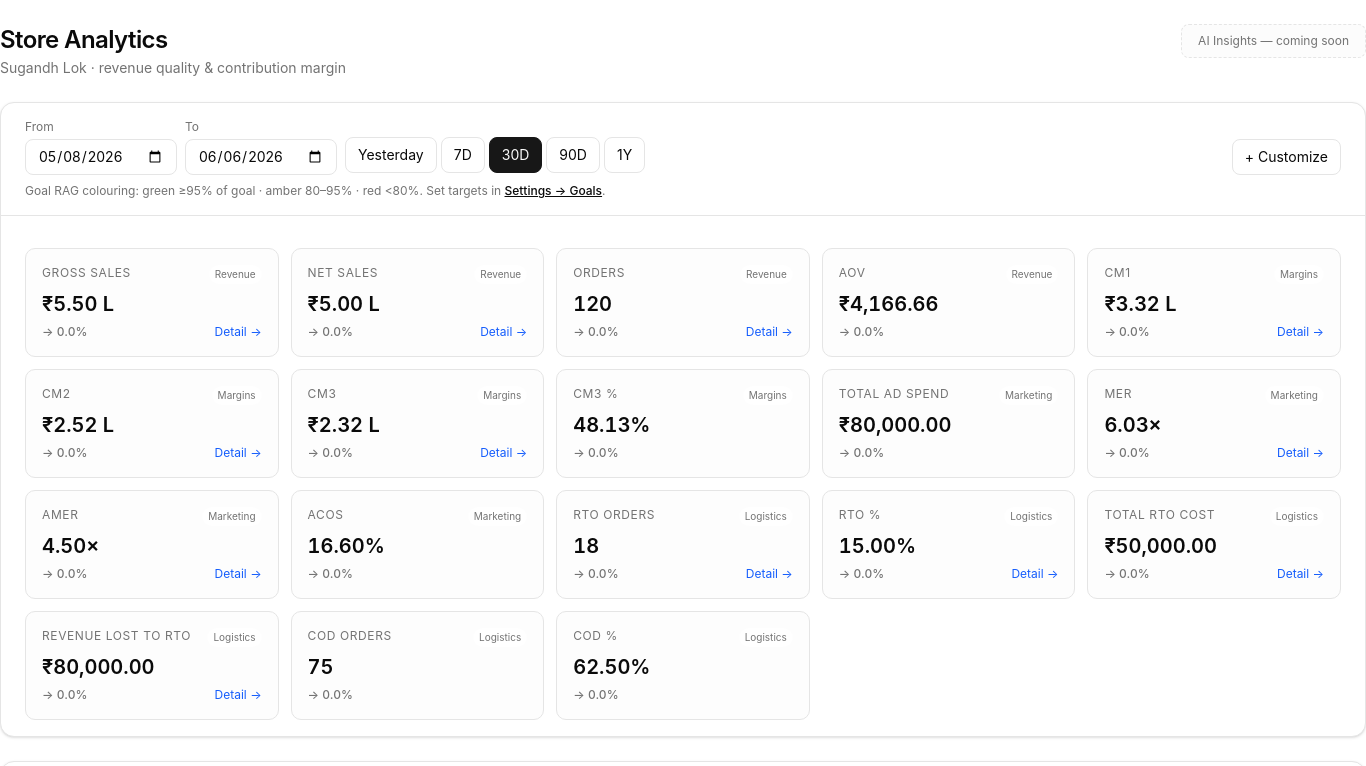
Test: AnalyticsContent — customize panel › clicking customize button toggles aria-expanded
What coordinates should you click on to do the following:
click the button with test id "analytics-customize-btn"
I would click on:
 (1286, 157)
Its box is [1232,139,1341,175].
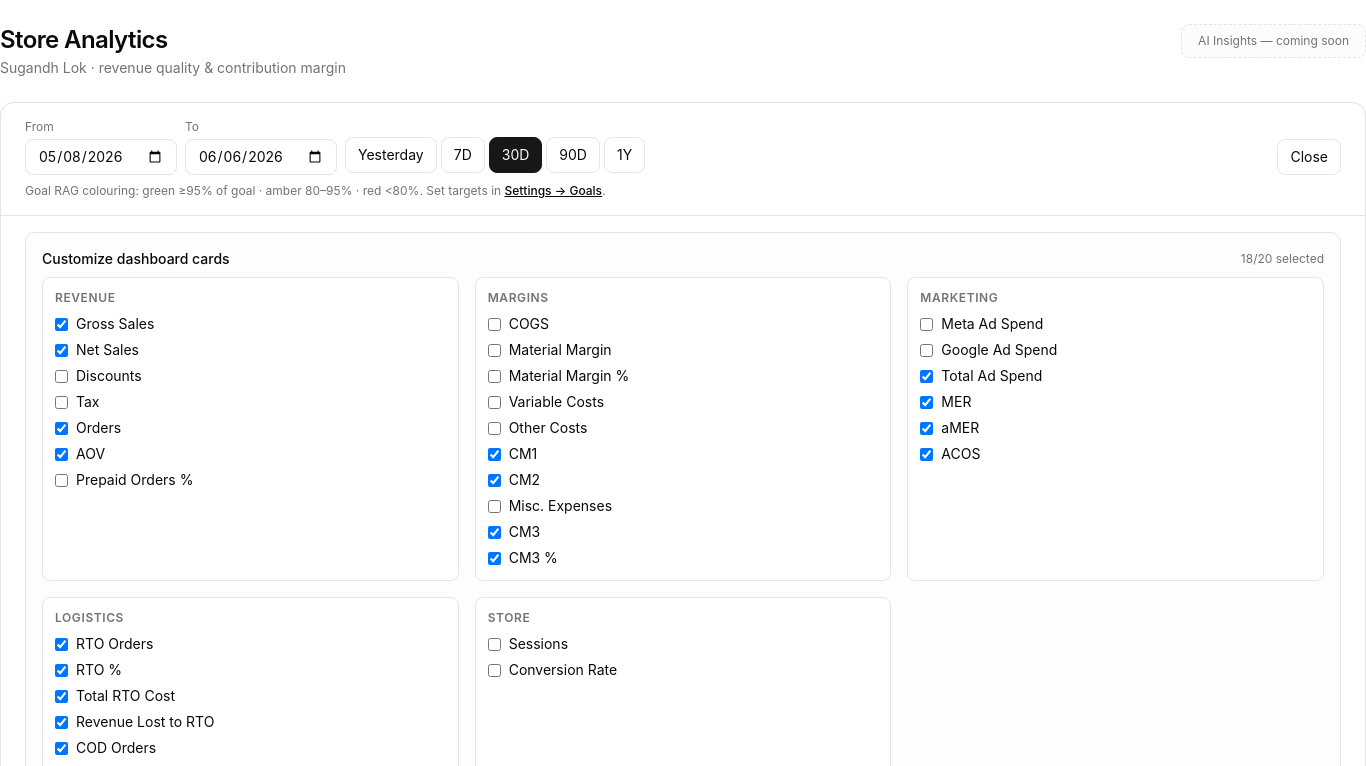
Expected: the button with test id "analytics-customize-btn" is expanded, [1277,139,1341,175]
